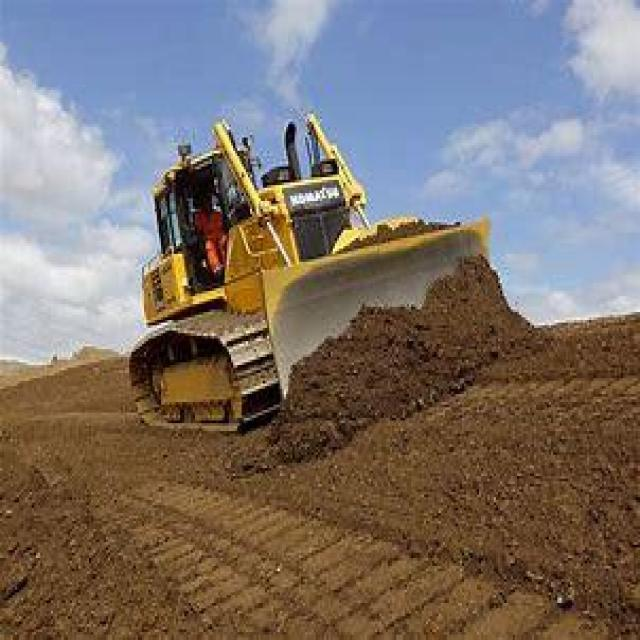Bulldozer: (104, 95, 519, 450)
